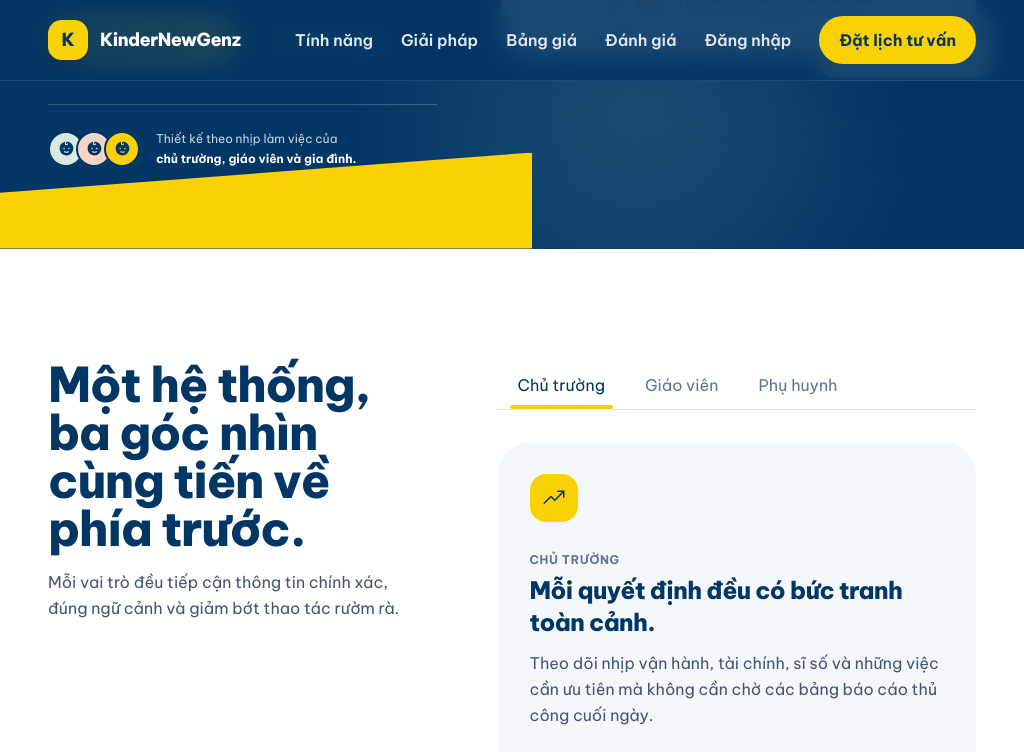
Test: KinderNewGenz landing page › switches role content with active layout when tab clicked
(page scrolled)
Expected: the panel shows "Chủ trường", [530,552,620,566]
// Switch to Giao vien
Click the tab "Giáo viên" at {"x": 682, "y": 384}, box [625,360,738,408]
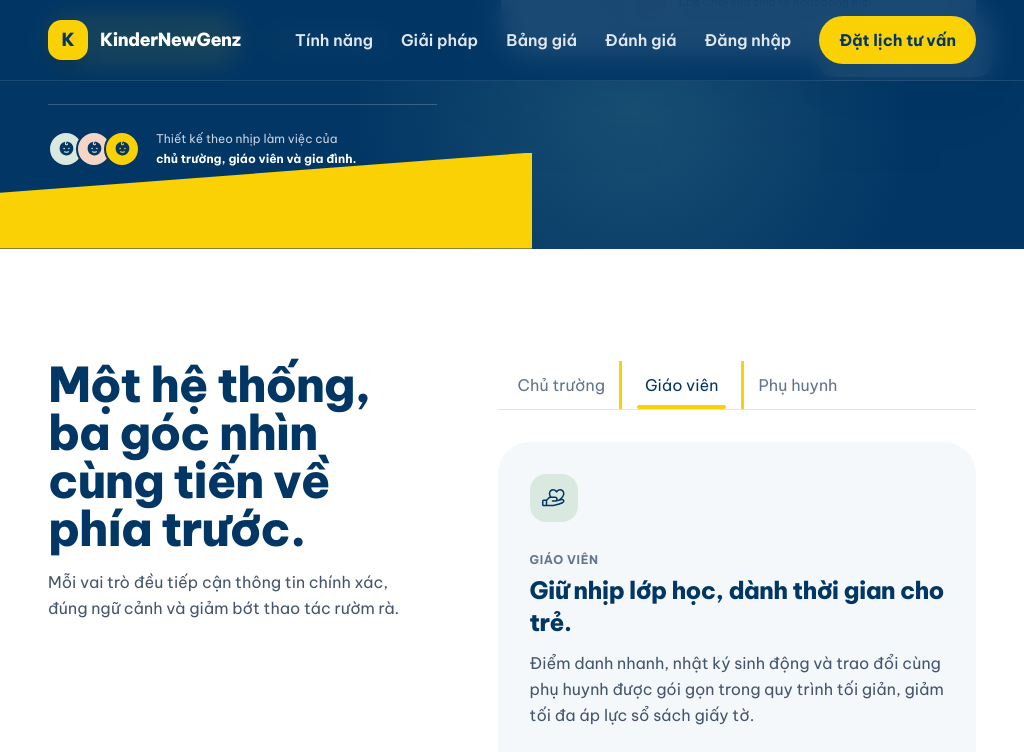
Result: the panel shows "Giáo viên" at [530,552,599,566]
// Switch to Phu huynh
Click the tab "Phụ huynh" at {"x": 798, "y": 384}, box [738,360,858,408]
(page scrolled)
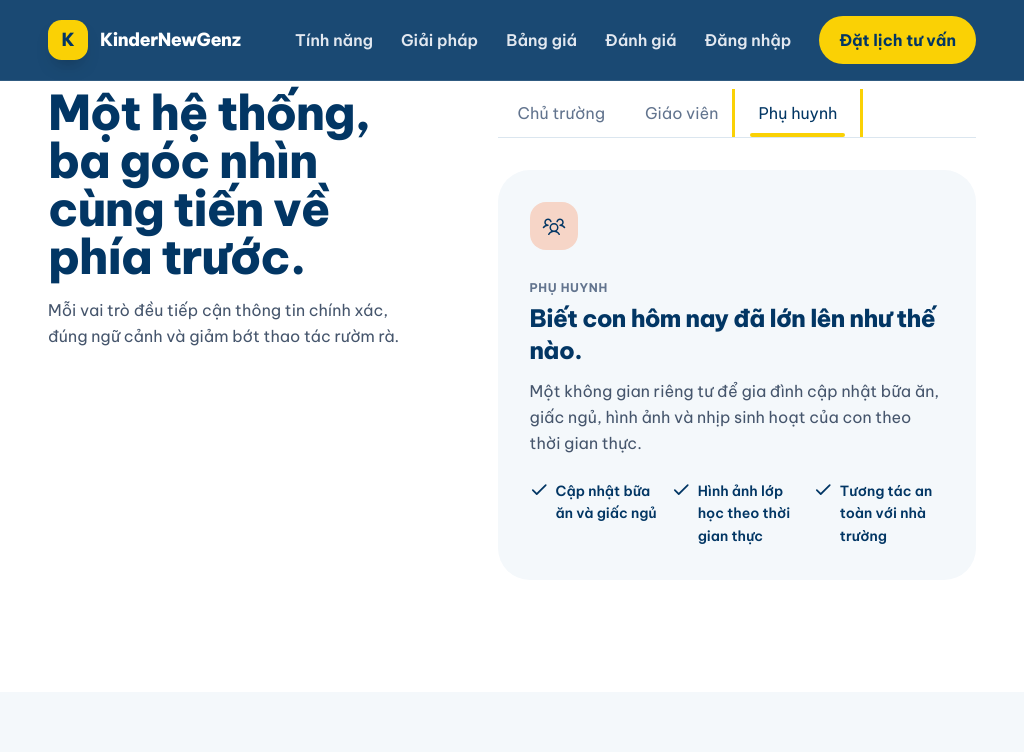
Result: the panel shows "Phụ huynh" at [530,280,608,294]
